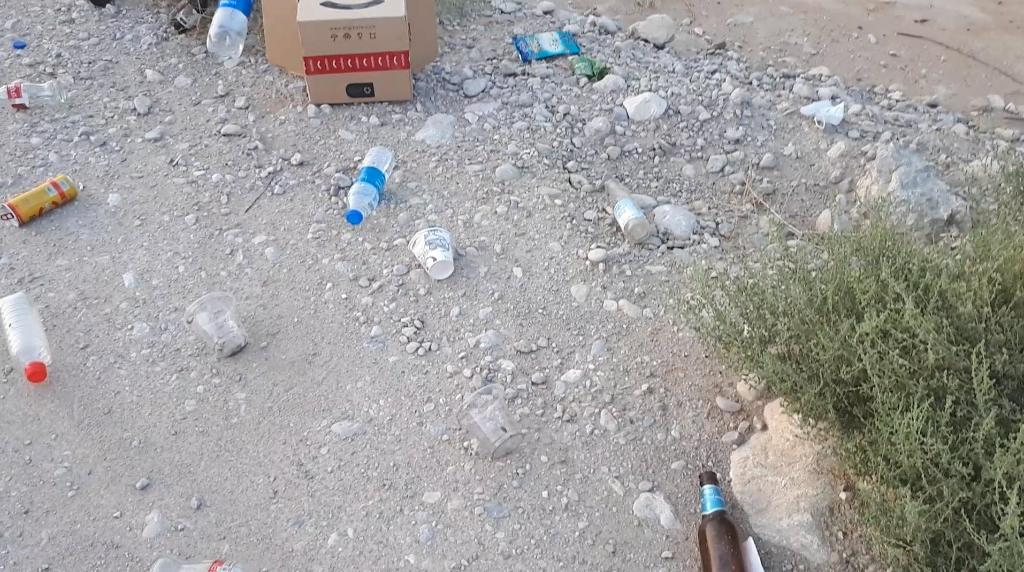garbage: (256, 0, 482, 126), (263, 0, 438, 104), (166, 273, 273, 381), (682, 456, 761, 572), (587, 156, 666, 256), (0, 290, 62, 398), (508, 28, 609, 94), (3, 169, 94, 237), (400, 219, 479, 290), (348, 139, 409, 230), (698, 472, 750, 572), (142, 539, 290, 572), (1, 292, 52, 383), (2, 71, 83, 124), (1, 174, 78, 227), (184, 293, 247, 357), (346, 146, 395, 225), (606, 179, 652, 243), (207, 1, 255, 59), (409, 227, 453, 280), (0, 79, 66, 109), (150, 557, 268, 572), (168, 1, 208, 34)
